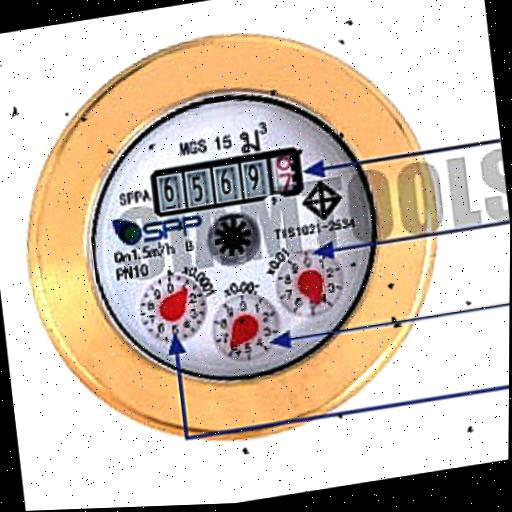5: (187, 172, 209, 207)
6: (272, 154, 296, 193), (158, 176, 180, 212), (217, 166, 236, 201)
9: (244, 163, 265, 197)
border_water_meter_number: (149, 146, 306, 219)
